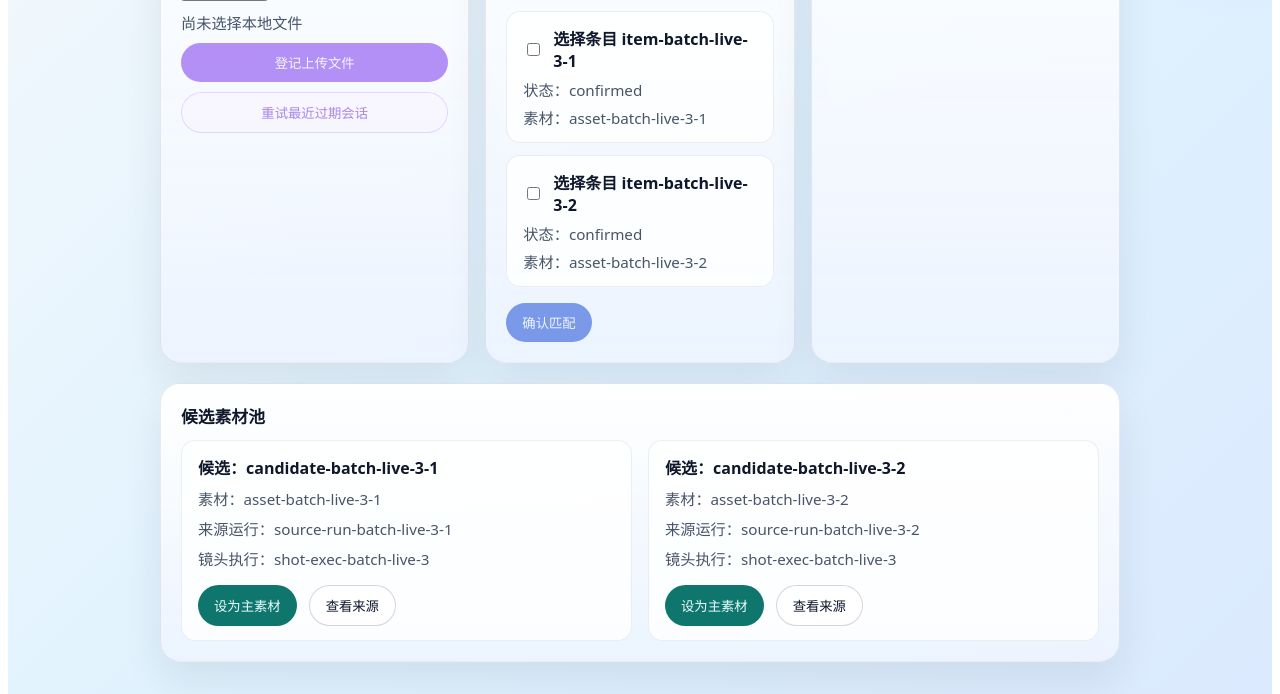
Test: App › keeps the current import workbench visible and surfaces an action error when select primary asset fails
(page scrolled)
Click the button "设为主素材" below "来源运行：source-run-batch-live-3-2" at (714, 606), box [665,585,764,626]
(page scrolled)
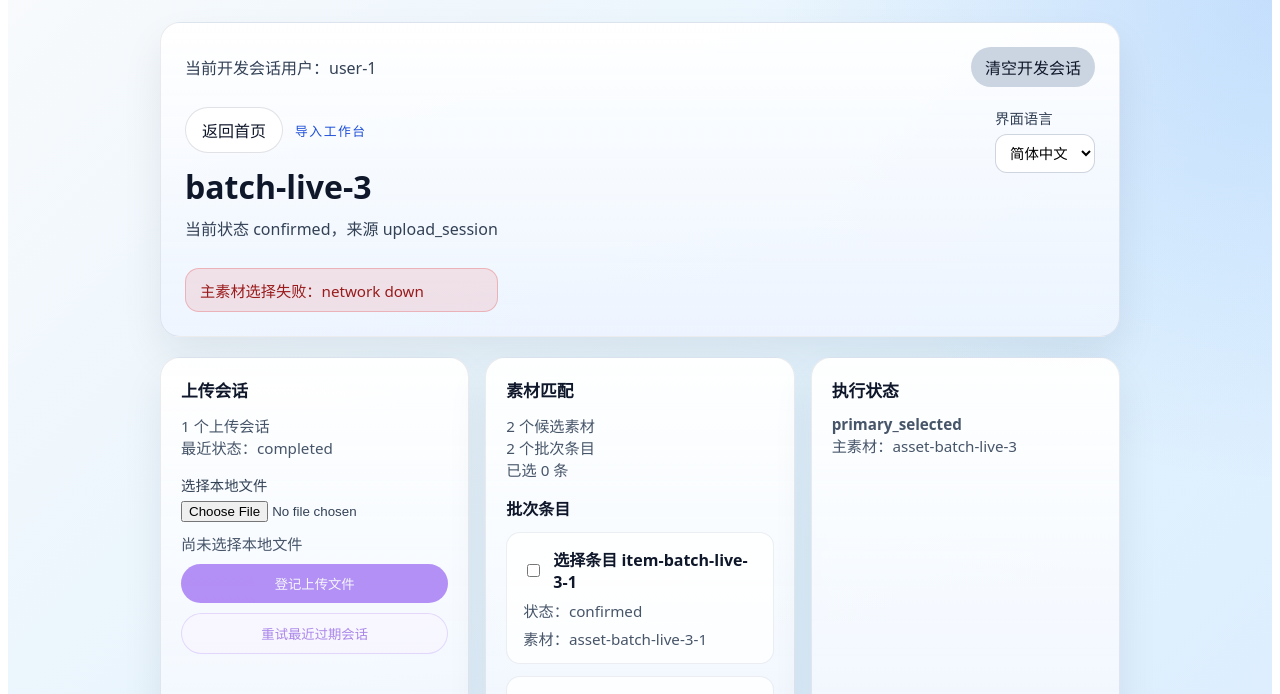
Expected: the heading "batch-live-3" is shown, [185,165,372,208]
Result: the text "主素材选择失败：network down" is shown at [200,281,424,301]
